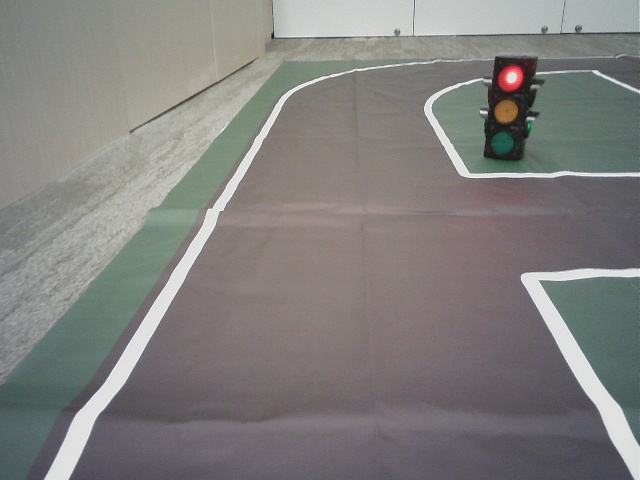red: (488, 61, 523, 157)
